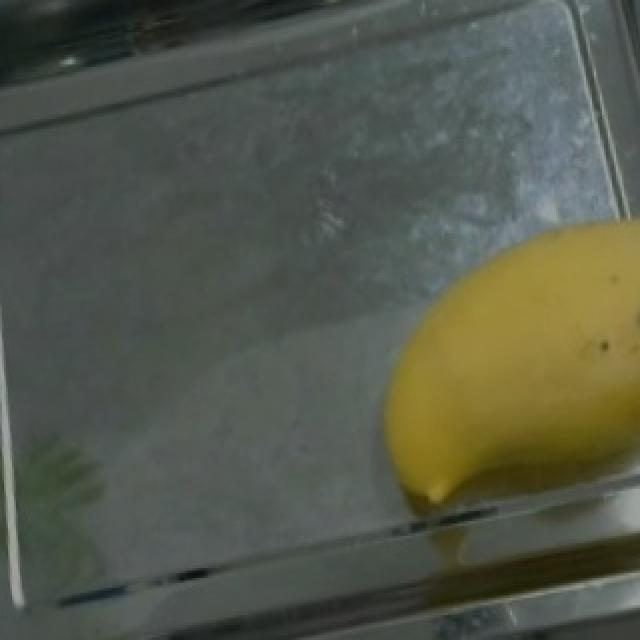fruit: (344, 178, 640, 540)
